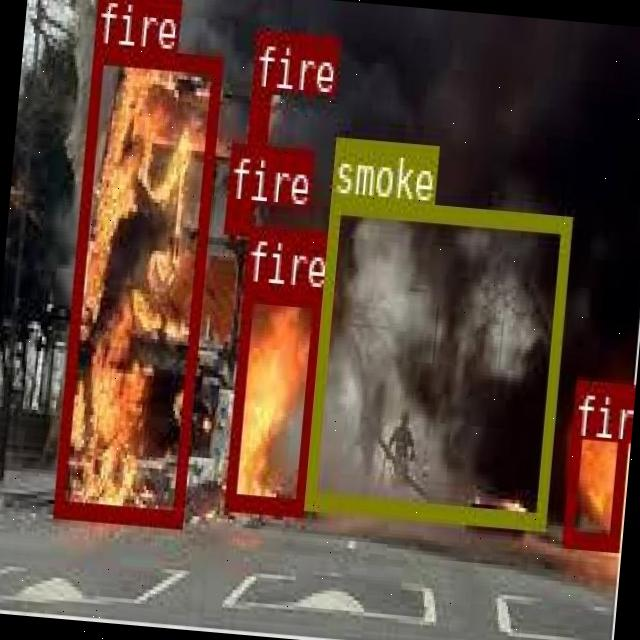fire: (52, 44, 222, 524), (222, 282, 322, 513), (560, 380, 632, 546), (244, 87, 269, 164), (224, 200, 250, 230)
smoke: (303, 194, 569, 526)
